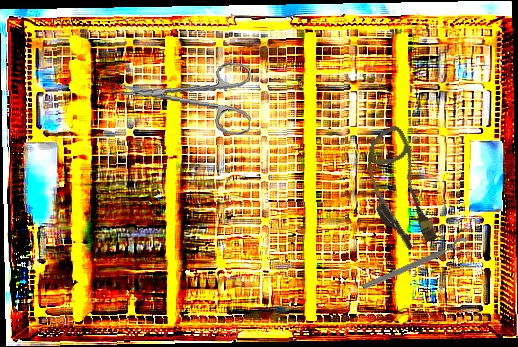Cannula: (346, 123, 452, 257)
Fixation Ring: (360, 235, 473, 299)
Iris Scissors: (114, 51, 257, 136)
